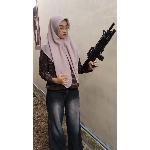Senapan: (82, 19, 118, 77)
